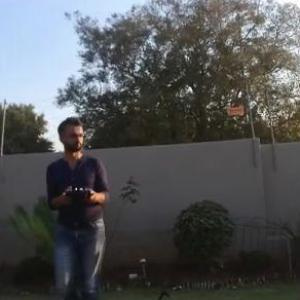follow: (42, 112, 113, 299)
